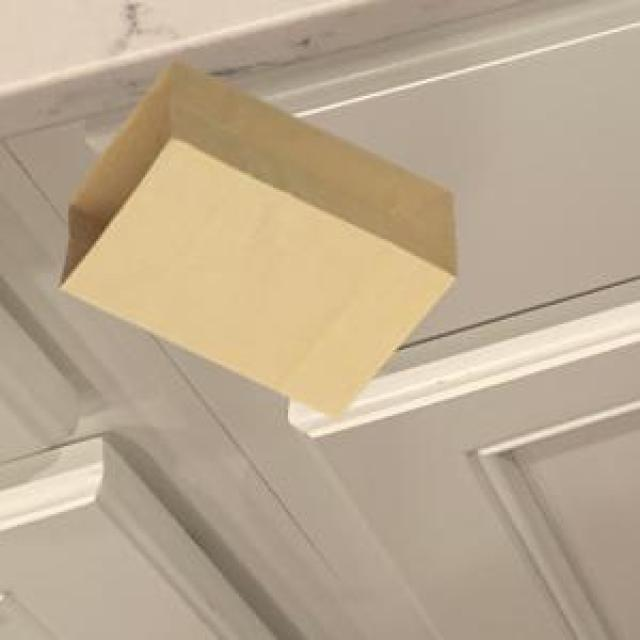paper: (56, 56, 452, 416)
